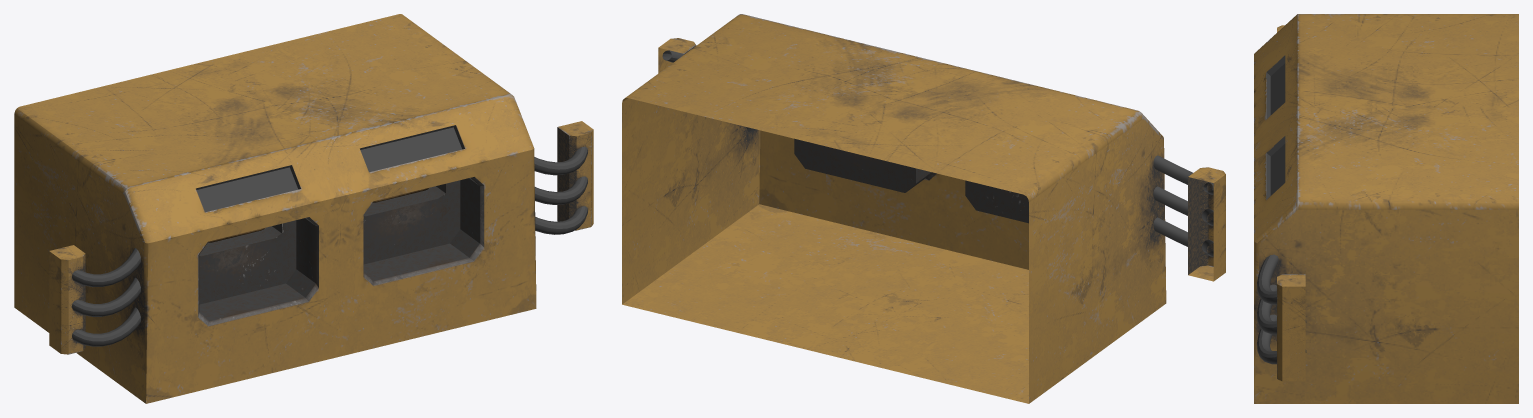
The model's file is Terminal.fbx.
The picture shows the model from 3 angles, left to right: view 1: azimuth 30°, elevation 25°; view 2: azimuth 150°, elevation 25°; view 3: azimuth 270°, elevation 25°; orthographic projection. The views are drawn at different scales.
Visible parts, largest first — view 1: Terminal, wire_core, wire; view 2: Terminal, wire_core, wire; view 3: Terminal, wire_core, wire.
Boxes of the visible parts, bbox=[...] form: Terminal: bbox=[14, 14, 536, 403]; wire_core: bbox=[49, 121, 593, 354]; wire: bbox=[72, 146, 587, 346]; Terminal: bbox=[622, 14, 1166, 403]; wire_core: bbox=[658, 38, 1225, 281]; wire: bbox=[662, 50, 1213, 256]; Terminal: bbox=[1254, 14, 1518, 403]; wire_core: bbox=[1277, 25, 1305, 381]; wire: bbox=[1257, 254, 1306, 364].
Bounding box in the file's own units: 279 × 100 × 120.
